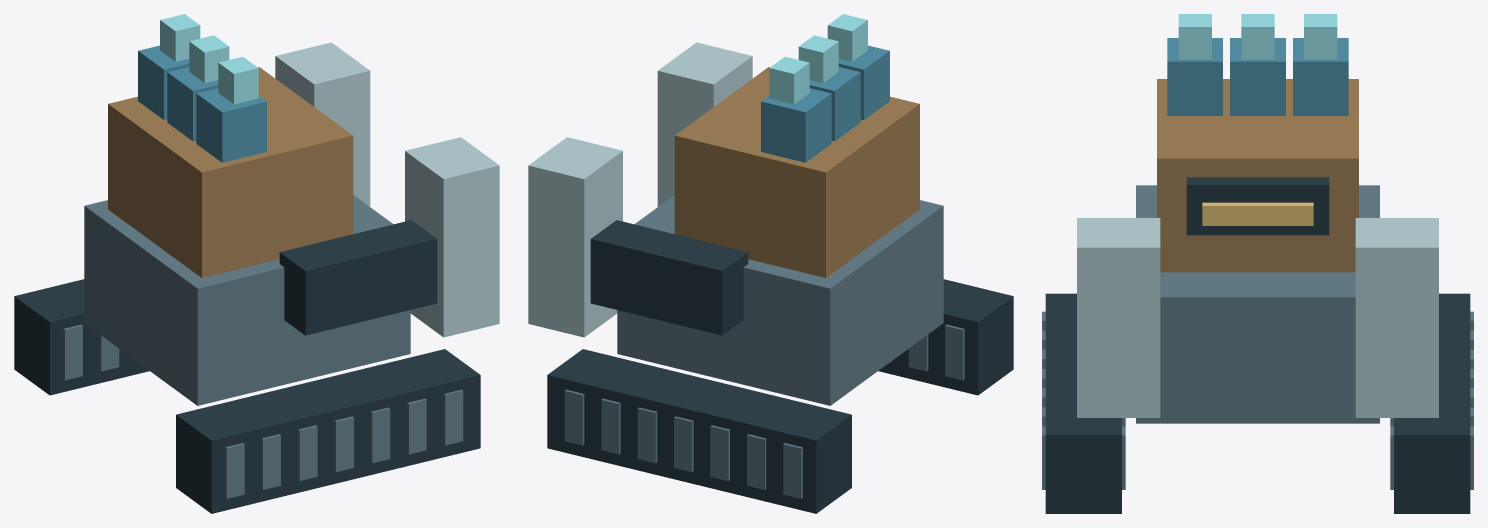
The model's file is crystal-devourer.glb.
3 views of the same model, side by side, from view 1: azimuth 30°, elevation 25°; view 2: azimuth 150°, elevation 25°; view 3: azimuth 270°, elevation 25° (orthographic). The views are drawn at different scales.
Parts seen in each view (by area): view 1: Tracks, Chassis, UpperHull, ToolClamps, ToolArms, TreadRibs, CrystalBase, CrystalTip; view 2: Tracks, Chassis, UpperHull, ToolClamps, ToolArms, TreadRibs, CrystalBase, CrystalTip; view 3: ToolClamps, Chassis, UpperHull, Tracks, CrystalBase, OpticHousing, CrystalTip, OpticLens, TreadRibs.
Part boxes in pixels (x1,y1,x2,y2): Tracks: (14, 279, 480, 513); Chassis: (84, 195, 410, 405); UpperHull: (108, 67, 353, 277); ToolClamps: (275, 42, 499, 337); ToolArms: (279, 220, 437, 335); TreadRibs: (63, 324, 463, 498); CrystalBase: (138, 45, 266, 162); CrystalTip: (160, 14, 258, 104); Tracks: (547, 279, 1013, 513); Chassis: (617, 195, 943, 405); UpperHull: (674, 67, 919, 277); ToolClamps: (528, 42, 752, 337); ToolArms: (590, 220, 748, 335); TreadRibs: (564, 324, 964, 498); CrystalBase: (761, 45, 889, 162); CrystalTip: (769, 14, 867, 104); ToolClamps: (1077, 218, 1438, 417); Chassis: (1136, 185, 1379, 423); UpperHull: (1157, 79, 1358, 272); Tracks: (1045, 293, 1470, 513); CrystalBase: (1167, 38, 1348, 115); OpticHousing: (1186, 177, 1329, 235); CrystalTip: (1178, 14, 1337, 59); OpticLens: (1202, 202, 1313, 225); TreadRibs: (1042, 311, 1473, 489).
Bounding box in the file's own units: 5.4 × 6.38 × 6.2.
